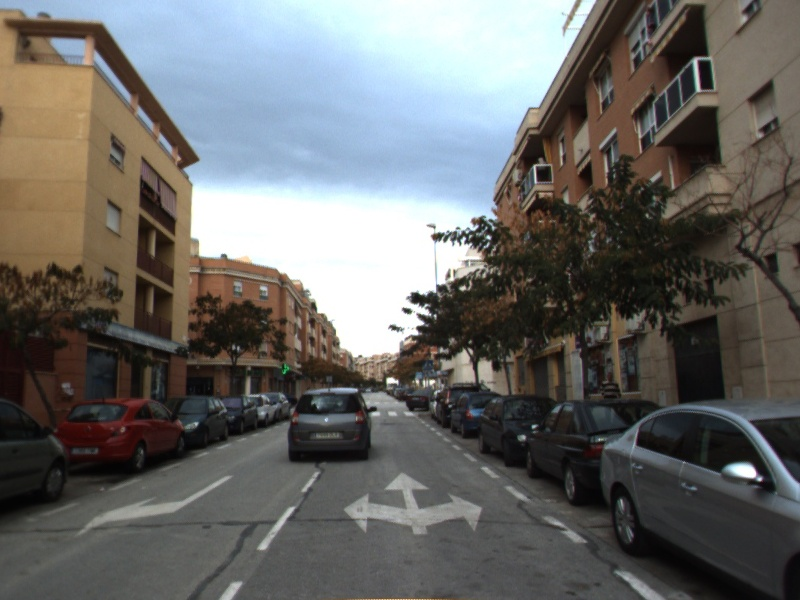STRAIGHT_LEFT_RIGHT: (341, 470, 485, 536)
